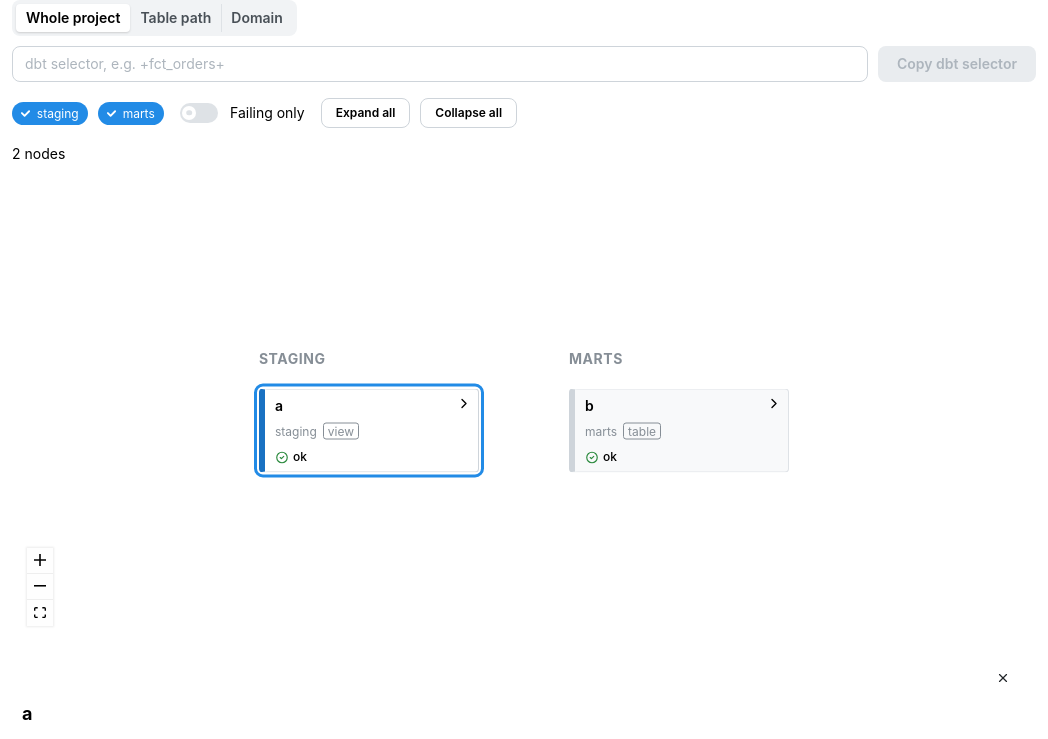
Test: LineageScreen › closing the panel with its close button returns the focus to the node
The image size is (1048, 739).
Click the button named "Close the node panel" at (1003, 678), box [992, 667, 1014, 689]
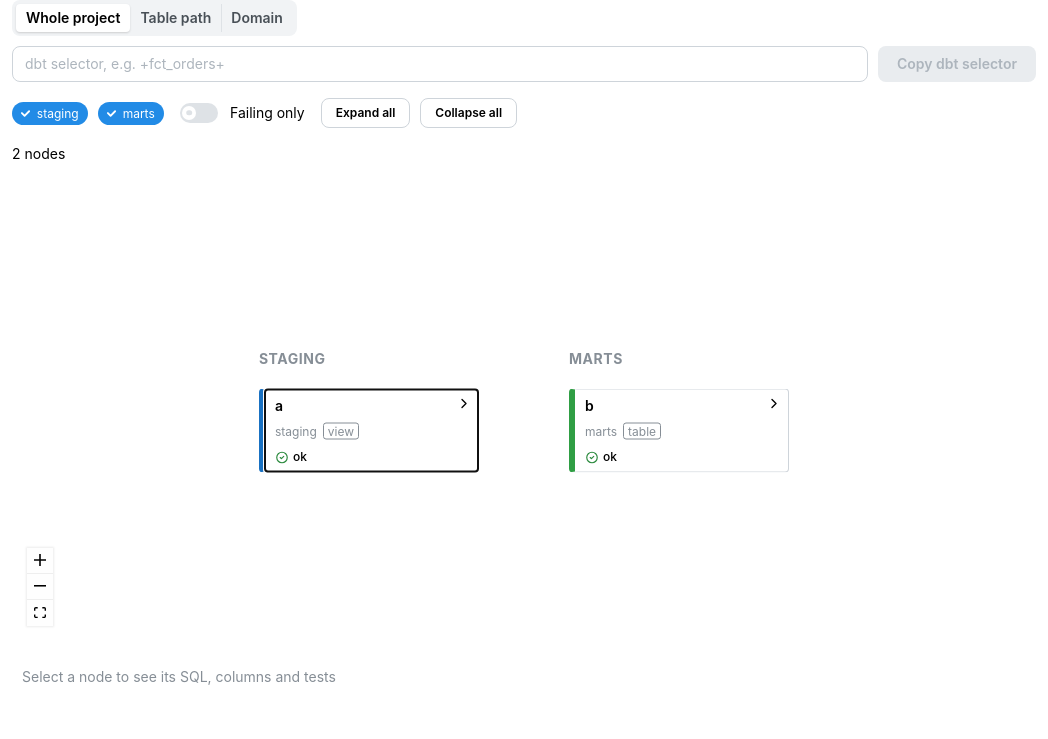
Result: the text "Select a node to see its SQL, columns and tests" is shown at [22, 668, 336, 685]
